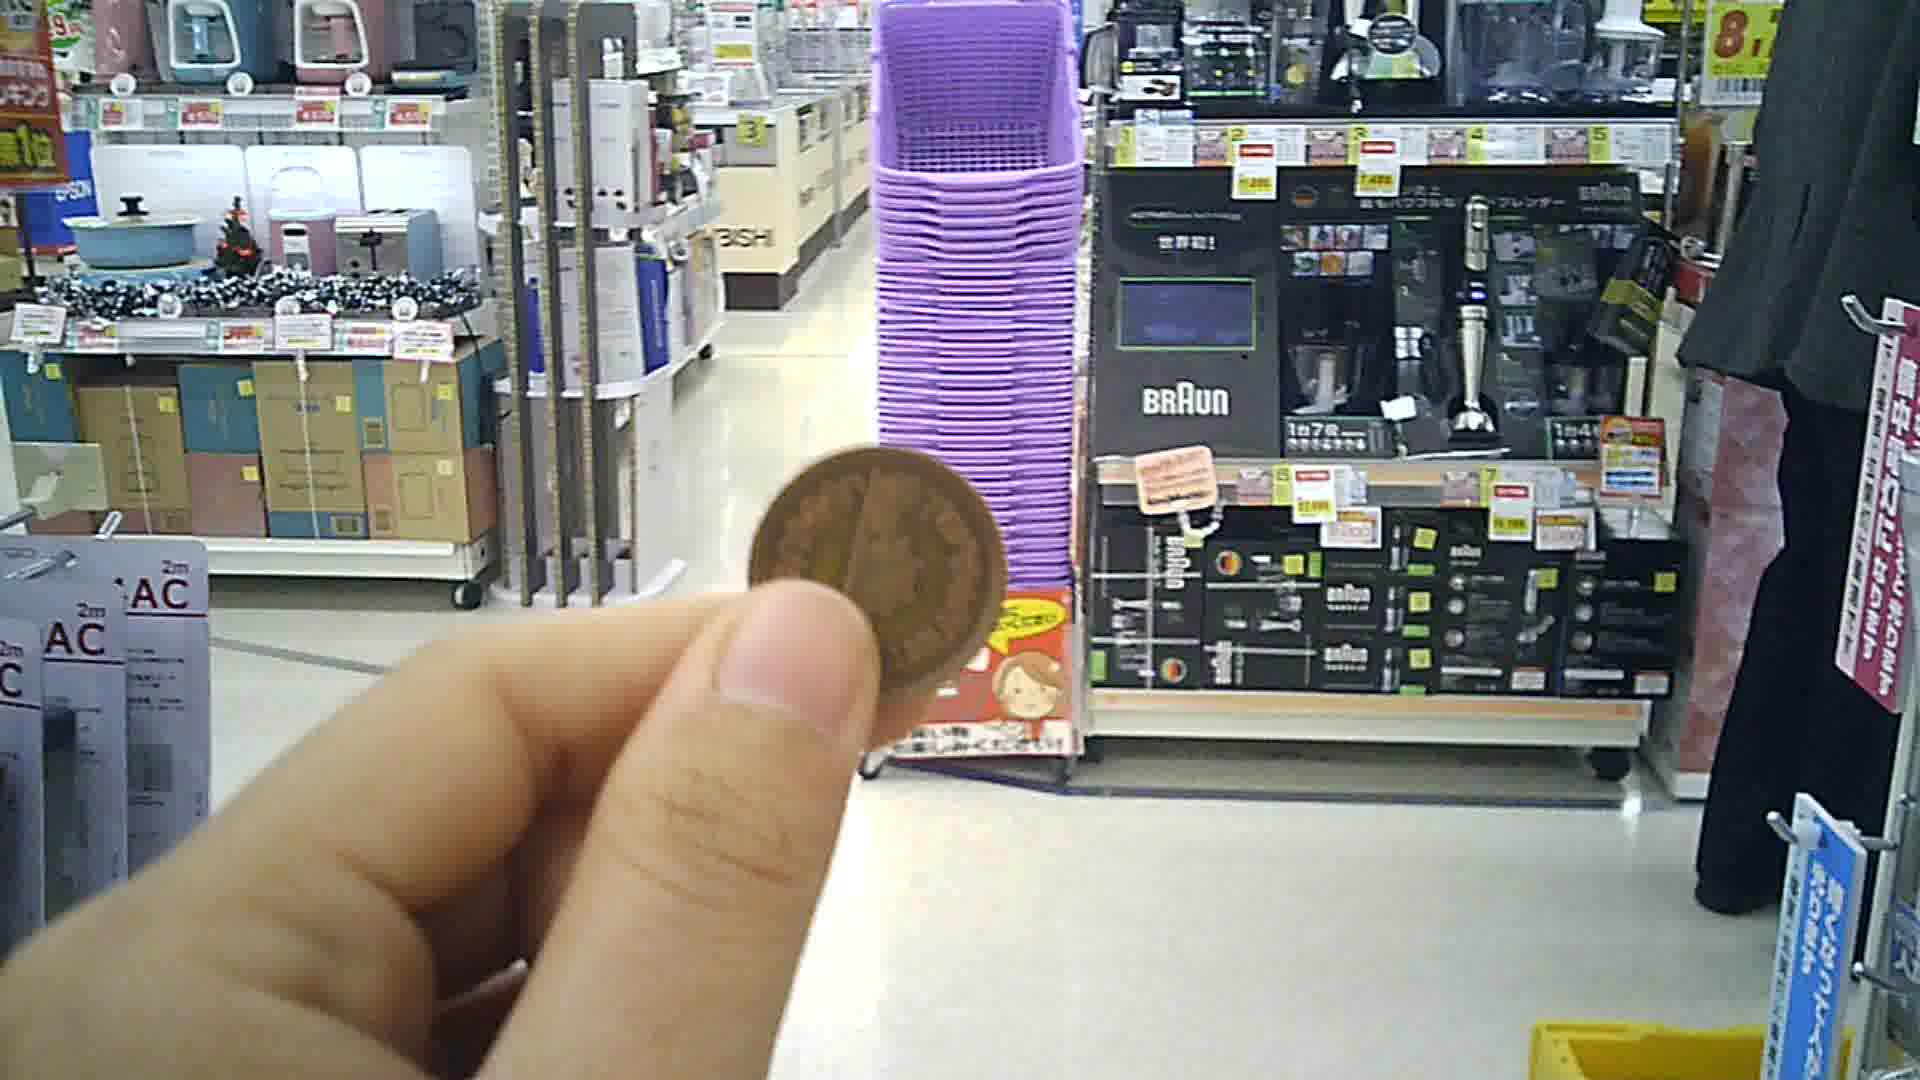10 Yen: (742, 439, 1017, 692)
